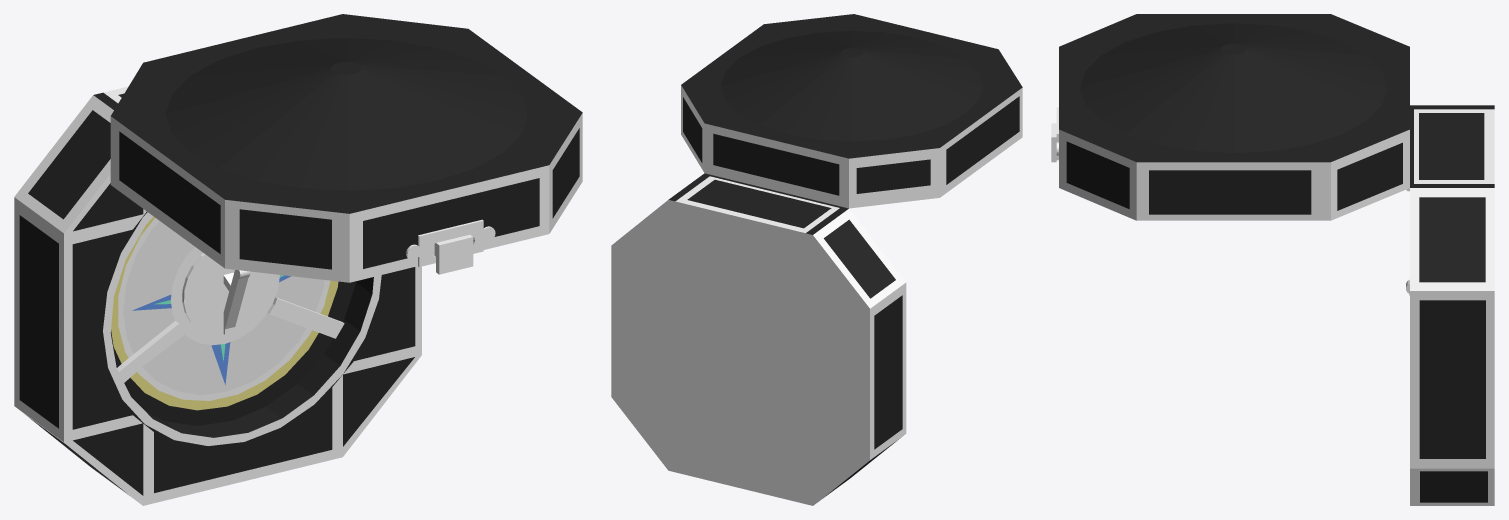
3 renders of one model, left to right at view 1: azimuth 30°, elevation 25°; view 2: azimuth 150°, elevation 25°; view 3: azimuth 270°, elevation 25°, orthographic. The views are drawn at different scales.
Visible parts, largest first — view 1: jack sparrow s compass; view 2: jack sparrow s compass; view 3: jack sparrow s compass.
Boxes of the visible parts, x1=… form: jack sparrow s compass: x1=14, y1=14, x2=582, y2=505; jack sparrow s compass: x1=611, y1=14, x2=1022, y2=505; jack sparrow s compass: x1=1051, y1=14, x2=1494, y2=505.
Bounding box in the file's own units: 203 × 270 × 257.
